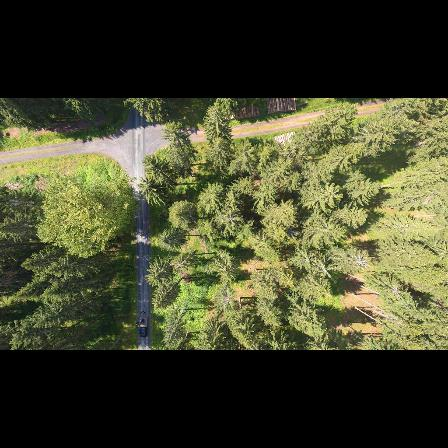Sick: (342, 247, 374, 271), (384, 277, 409, 303), (219, 203, 243, 229)
